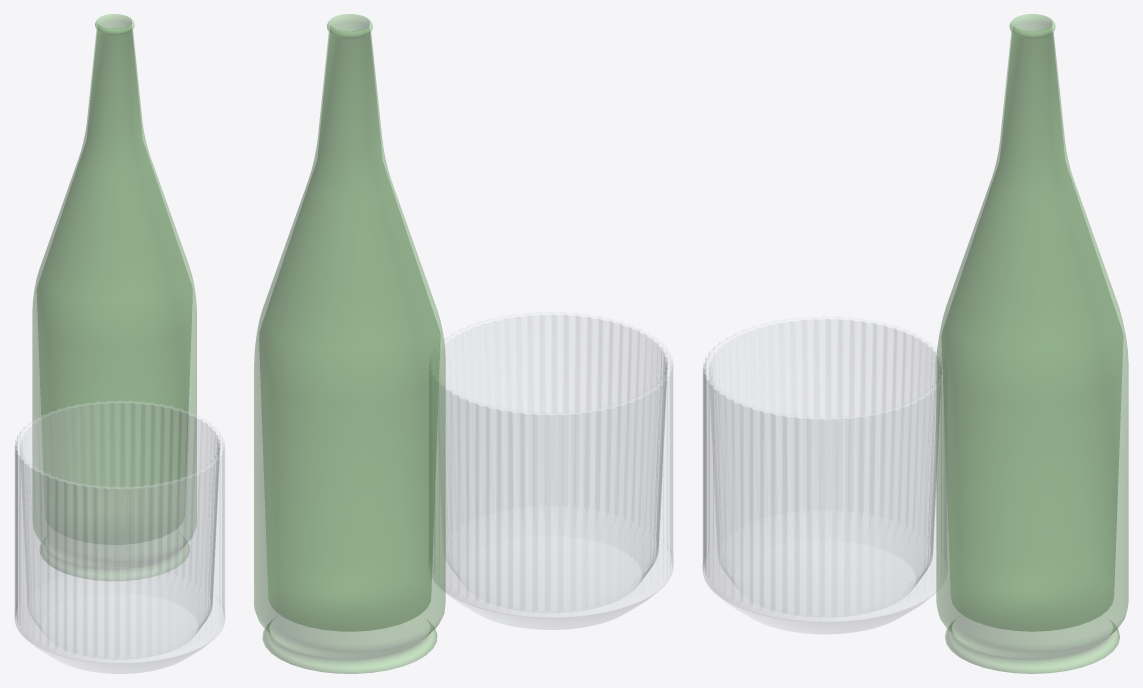
Rendered from bottle.glb.
3 views of the same model, side by side, from view 1: azimuth 30°, elevation 25°; view 2: azimuth 150°, elevation 25°; view 3: azimuth 270°, elevation 25° (orthographic). The views are drawn at different scales.
Visible parts, largest first — view 1: Cylinder, glass; view 2: Cylinder, glass; view 3: Cylinder, glass.
Boxes of the visible parts, box(x1,y1,x2,y2) form: Cylinder: box(32, 14, 196, 580); glass: box(14, 400, 225, 673); Cylinder: box(254, 14, 445, 673); glass: box(432, 312, 673, 629); Cylinder: box(936, 14, 1128, 673); glass: box(702, 316, 947, 633).
Bounding box in the file's own units: 25.52 × 52.79 × 32.8.
